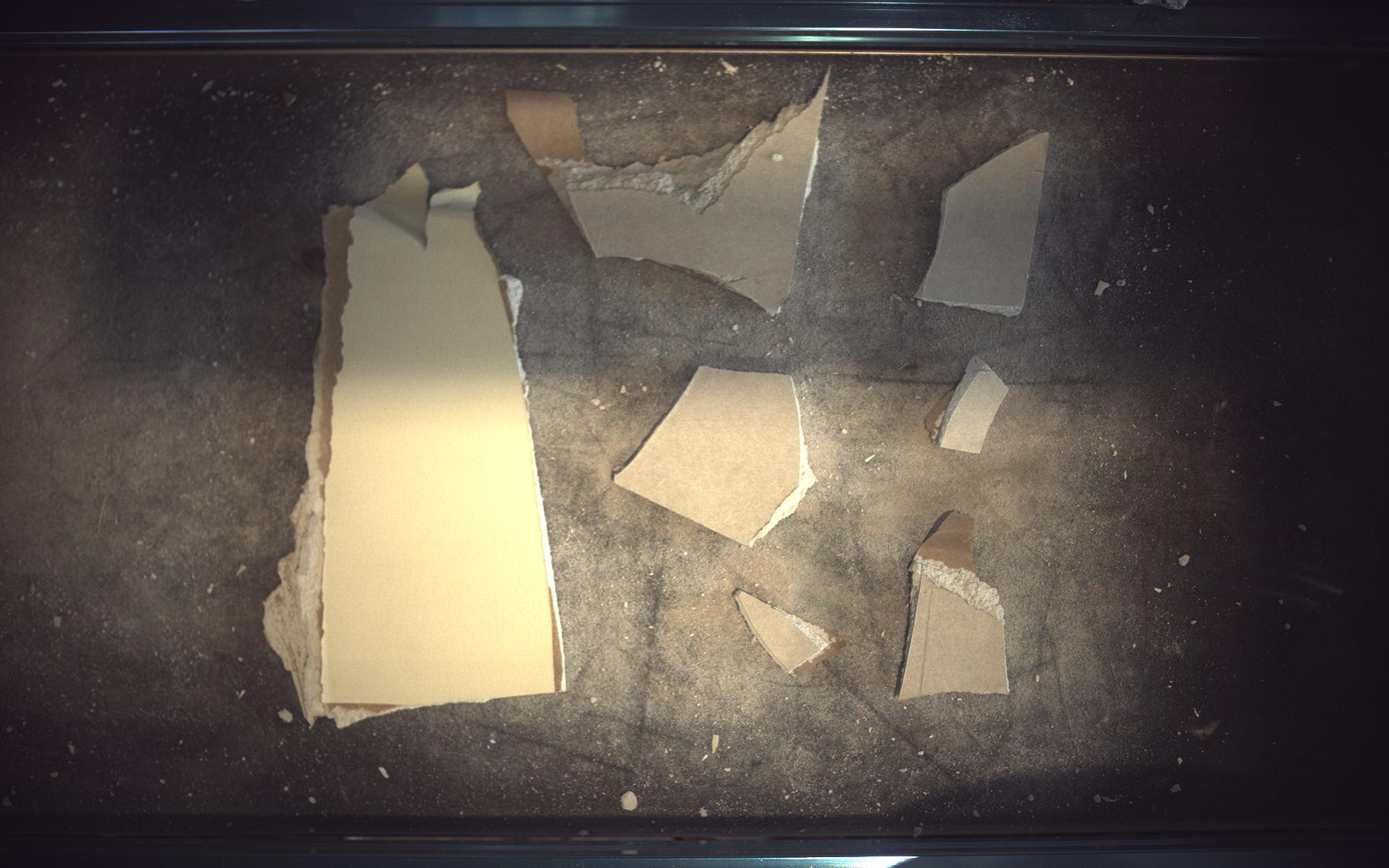gypsum_board: (263, 163, 565, 727), (507, 71, 831, 314), (615, 366, 817, 546), (917, 131, 1051, 315), (899, 511, 1011, 702), (736, 592, 846, 678), (926, 356, 1011, 454)
